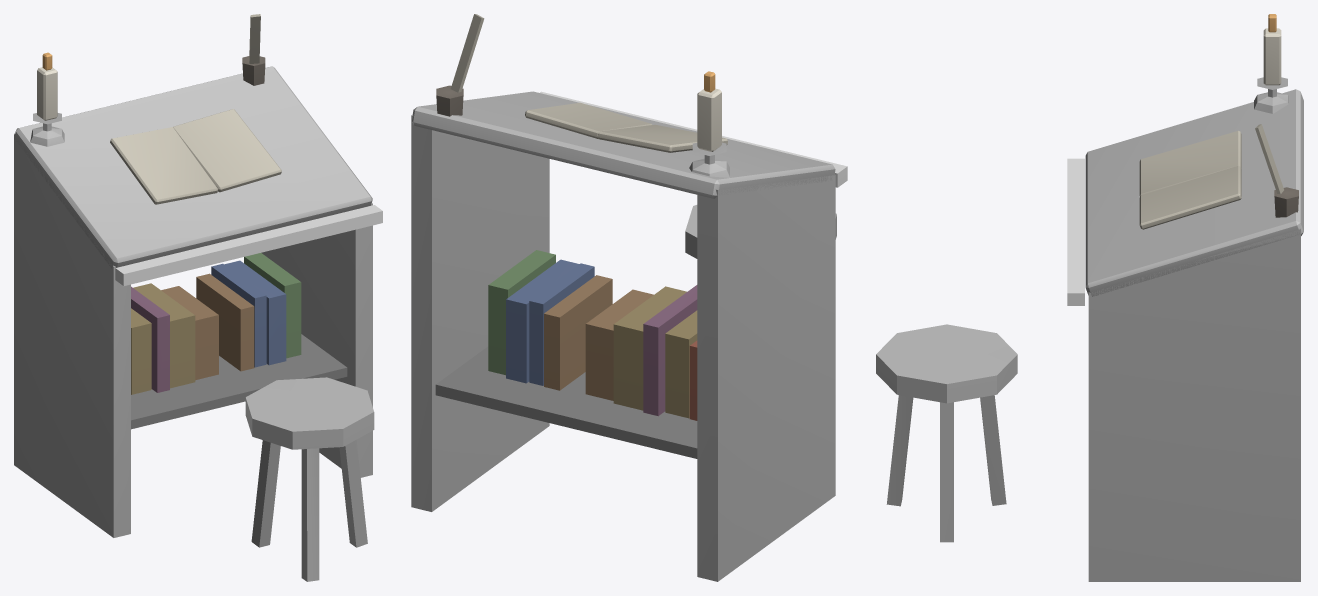
File: writing_desk_gallery.glb
3 renders of one model, left to right at view 1: azimuth 30°, elevation 25°; view 2: azimuth 150°, elevation 25°; view 3: azimuth 270°, elevation 25°, orthographic. The views are drawn at different scales.
Parts seen in each view (by area): view 1: book; view 2: book; view 3: book.
Boxes of the visible parts, <box> form: book: <box>14,14,382,581</box>; book: <box>411,14,847,581</box>; book: <box>876,14,1303,581</box>.
Size of the model in its own units: 0.9 by 1.38 by 1.21.
